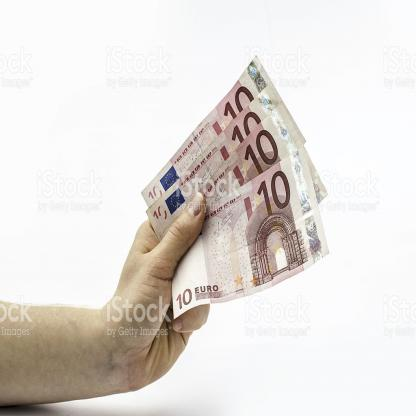billete: (140, 54, 331, 322)
